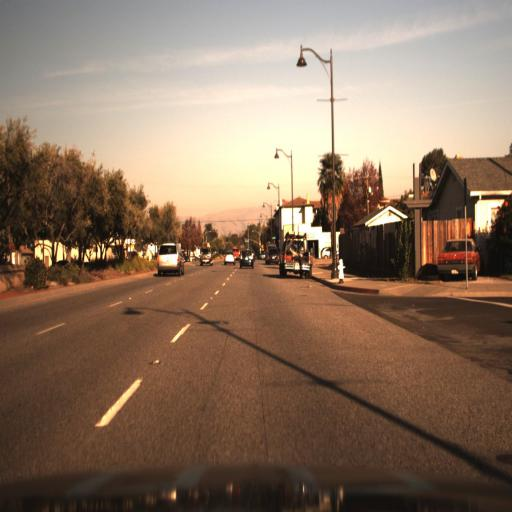car: (434, 228, 484, 286), (149, 227, 192, 288), (276, 232, 313, 280), (236, 244, 258, 278), (196, 238, 218, 269), (320, 240, 342, 261), (265, 240, 280, 270), (221, 245, 237, 269)
